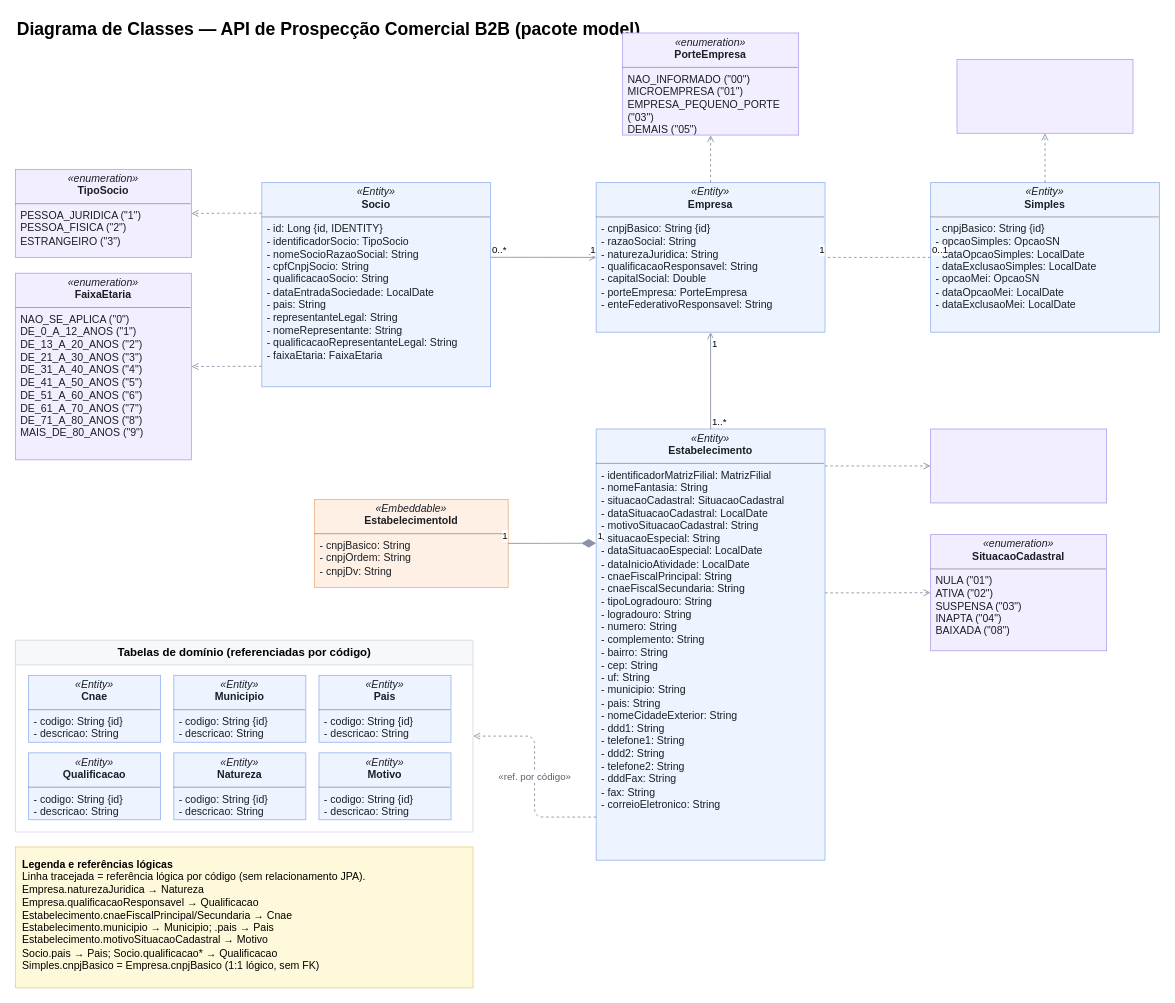
This 1175x1003 diagram has some shape labels left out. Each missing label, with the centre of its shape:
«enumeration» MatrizFilial MATRIZ ("1") FILIAL ("2"): pixel 1018 465
«enumeration» OpcaoSN SIM ("S") NAO ("N"): pixel 1044 96
